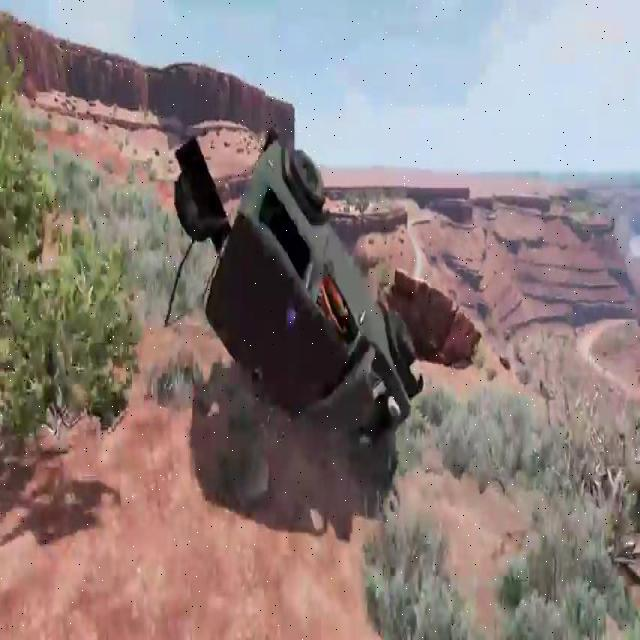severe: (172, 117, 424, 456)
